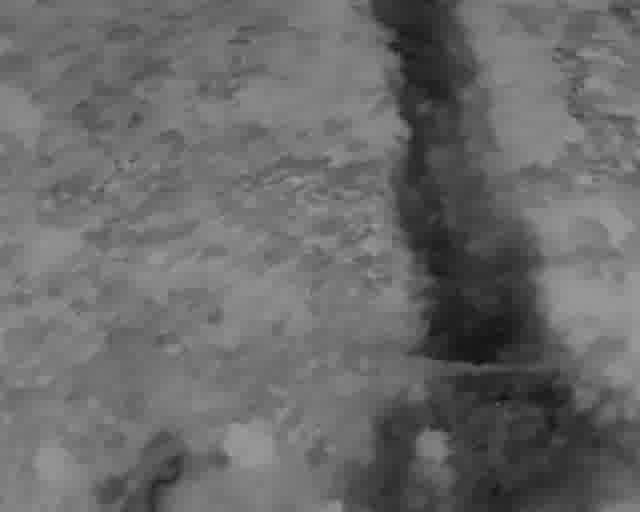car: (169, 471, 180, 488), (170, 491, 179, 508)
person: (167, 506, 173, 512), (175, 507, 179, 511)
